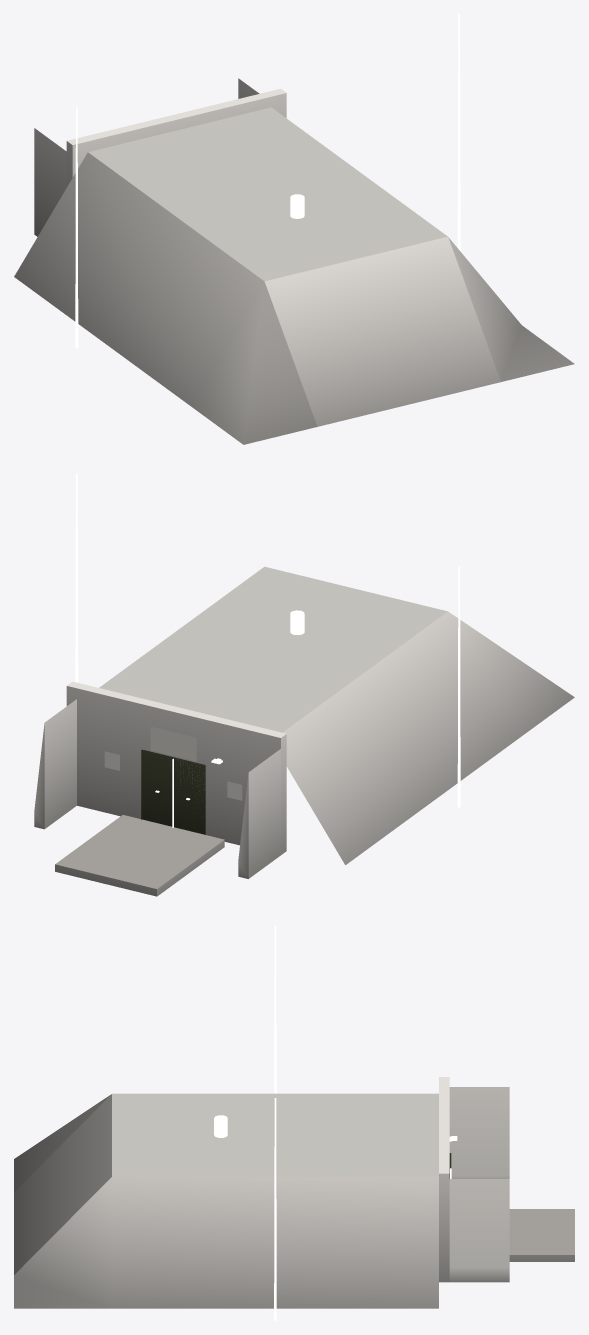
The model's file is ammo_magazine.glb.
3 renders of one model, top to bottom at view 1: azimuth 30°, elevation 25°; view 2: azimuth 150°, elevation 25°; view 3: azimuth 270°, elevation 25°, orthographic. The views are drawn at different scales.
Parts seen in each view (by area): view 1: ammo_magazine_LOD0; view 2: ammo_magazine_LOD0; view 3: ammo_magazine_LOD0.
Part boxes in pixels (box(x1,y1,x2,y2)): ammo_magazine_LOD0: box(14, 14, 574, 444); ammo_magazine_LOD0: box(34, 473, 574, 896); ammo_magazine_LOD0: box(14, 925, 574, 1320).
Size of what is drawn, in the model's own units: 15.09 by 9.2 by 20.6.
